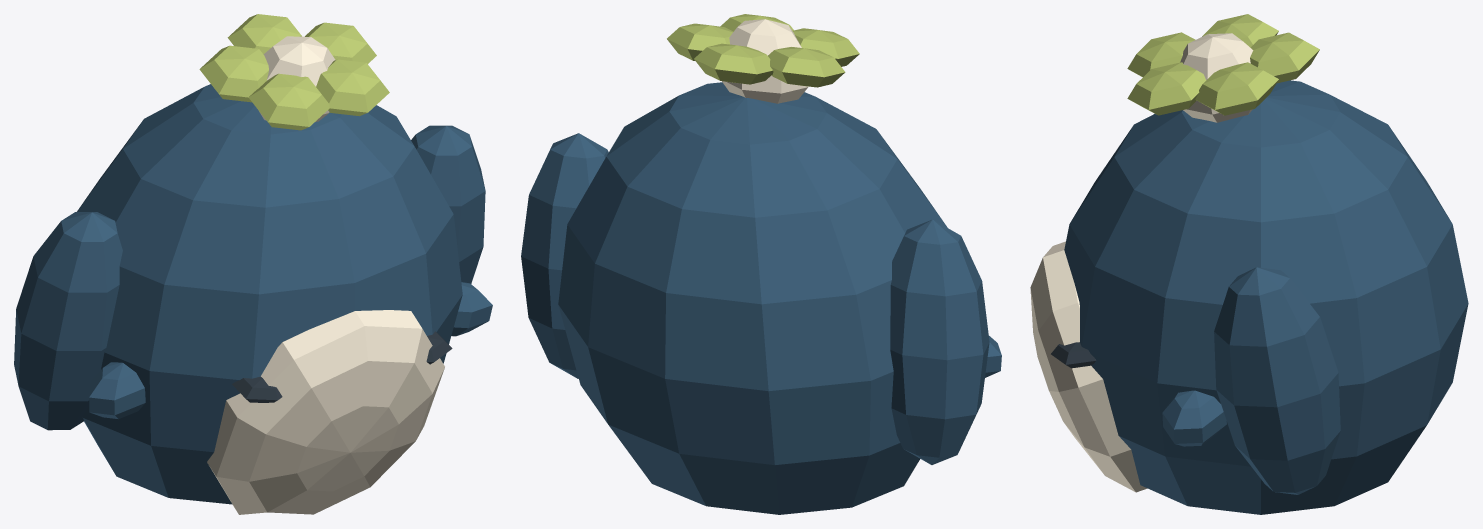
File: sprite-lab-6129.glb
The picture shows the model from 3 angles, left to right: view 1: azimuth 30°, elevation 25°; view 2: azimuth 150°, elevation 25°; view 3: azimuth 270°, elevation 25°; orthographic projection. The views are drawn at different scales.
Visible parts, largest first — view 1: sprite-lab-6129; view 2: sprite-lab-6129; view 3: sprite-lab-6129.
Boxes of the visible parts, x1,y1,x2,y2 form: sprite-lab-6129: [14, 14, 492, 514]; sprite-lab-6129: [521, 14, 1001, 514]; sprite-lab-6129: [1030, 14, 1468, 514].
Size of the model in its own units: 0.7779 by 0.7 by 0.6176.
